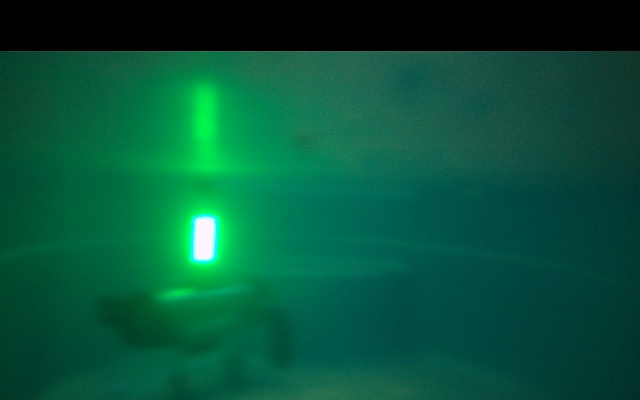green: (193, 211, 217, 272)
